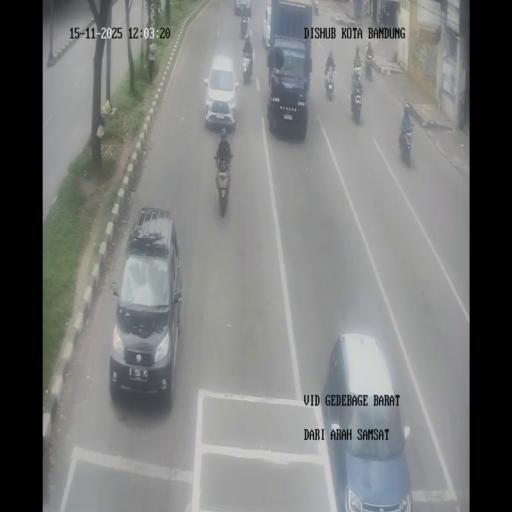3: (264, 0, 313, 136)
car: (324, 334, 410, 508), (108, 210, 182, 403), (203, 54, 239, 132), (262, 4, 271, 48)
truck: (214, 154, 232, 216), (399, 121, 414, 166), (146, 37, 158, 81), (324, 62, 336, 100), (351, 91, 362, 124), (242, 50, 253, 82), (353, 66, 363, 94), (364, 52, 373, 81), (240, 11, 249, 40), (377, 7, 385, 23), (353, 56, 362, 70), (362, 0, 369, 17), (314, 1, 319, 16)
